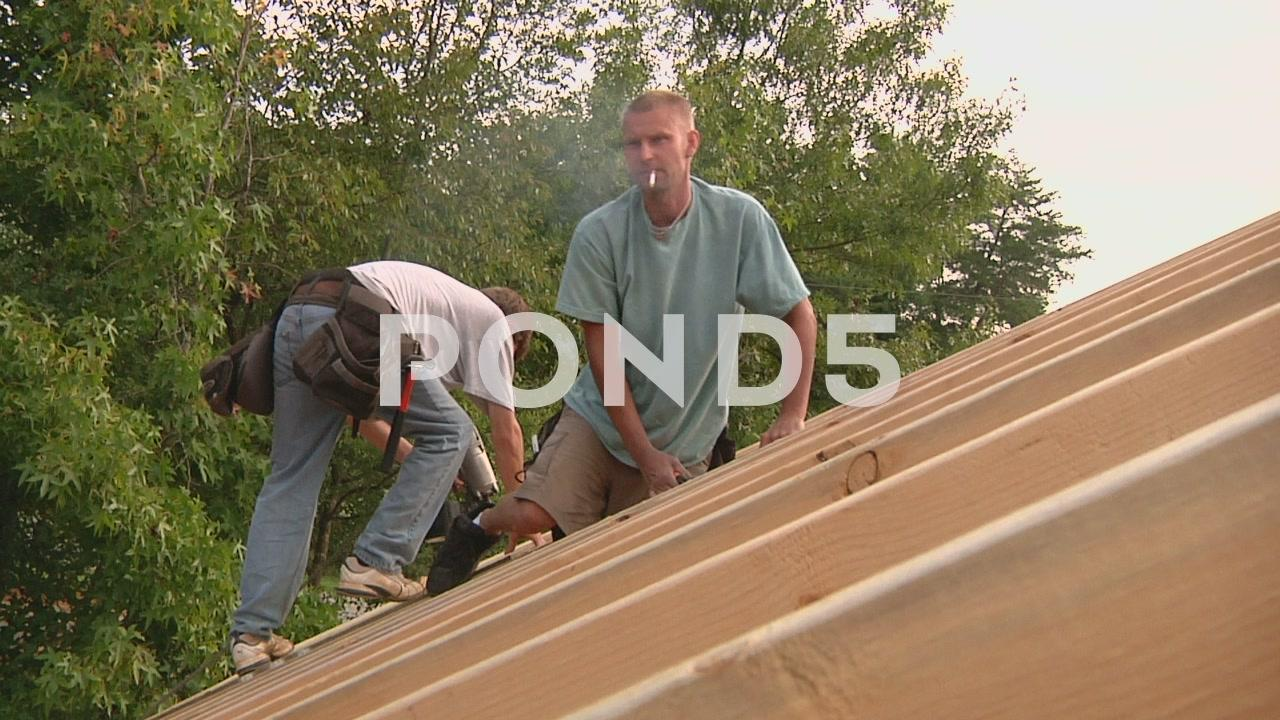no hat: (605, 71, 761, 259), (449, 233, 555, 381)
no vest: (555, 197, 829, 463), (267, 247, 507, 425)
